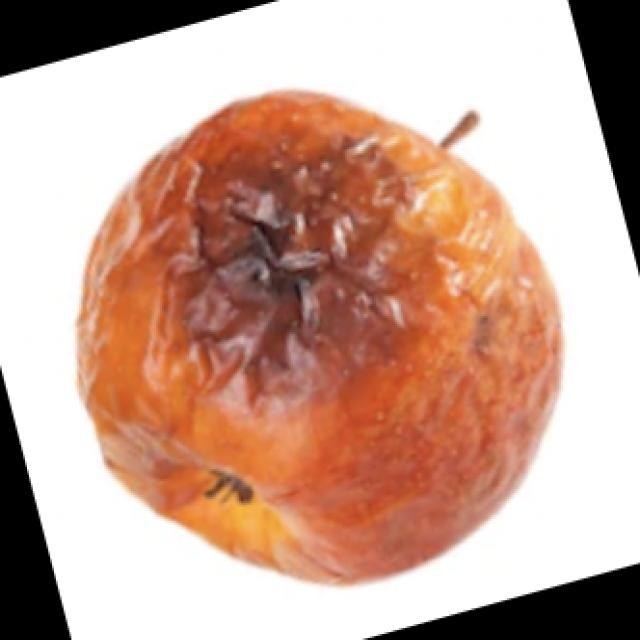Rotten: (76, 87, 558, 571)
